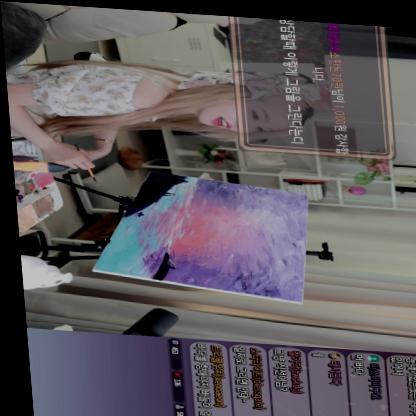donation: (230, 12, 393, 154)
streamer: (3, 52, 338, 181)
